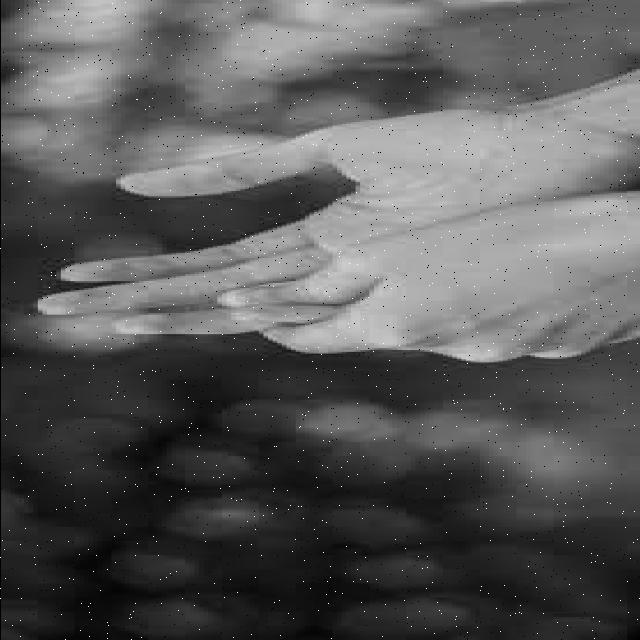no_apron: (2, 115, 630, 344), (257, 196, 640, 382)
